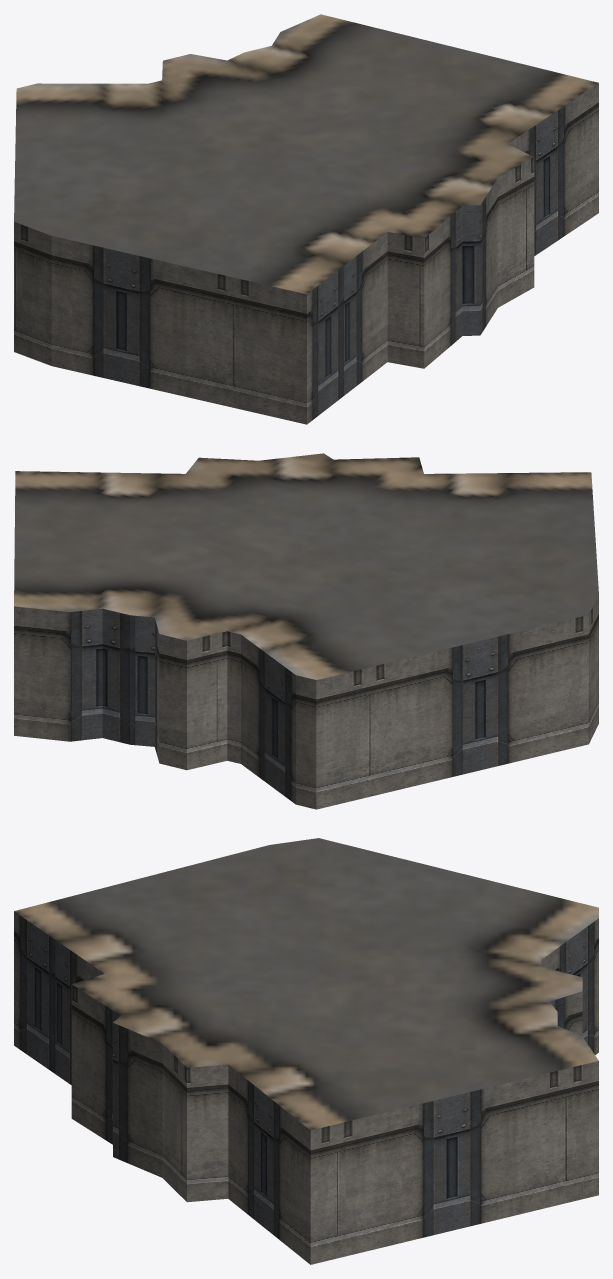
Rendered from building_heavy_50.glb.
3 views of the same model, one above another, from view 1: azimuth 30°, elevation 25°; view 2: azimuth 150°, elevation 25°; view 3: azimuth 270°, elevation 25° (orthographic). The views are drawn at different scales.
Parts seen in each view (by area): view 1: buildings/saxarba/building_heavy/building_heavy_50; view 2: buildings/saxarba/building_heavy/building_heavy_50; view 3: buildings/saxarba/building_heavy/building_heavy_50.
Part boxes in pixels (x1,y1,x2,y2): buildings/saxarba/building_heavy/building_heavy_50: (14, 14, 598, 424); buildings/saxarba/building_heavy/building_heavy_50: (14, 453, 598, 809); buildings/saxarba/building_heavy/building_heavy_50: (14, 838, 598, 1264).
Bounding box in the file's own units: 84 × 18 × 71.
